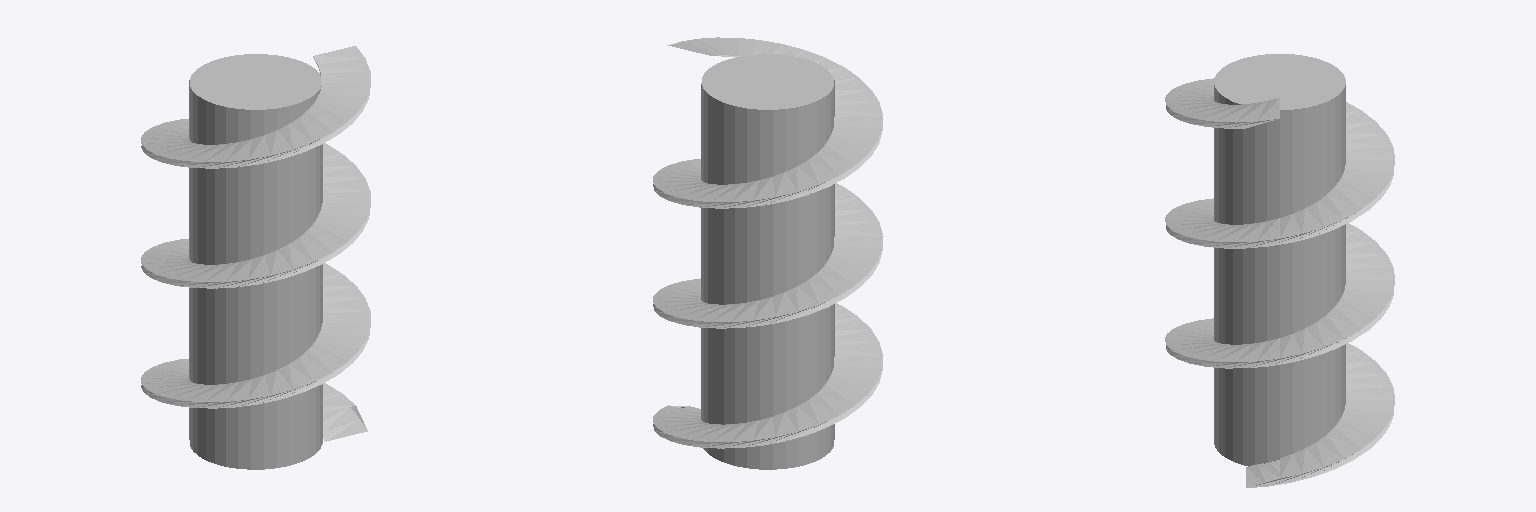
The model's file is 4revscrew_v2.obj.
3 renders of one model, left to right at view 1: azimuth 30°, elevation 25°; view 2: azimuth 150°, elevation 25°; view 3: azimuth 270°, elevation 25°, orthographic.
Parts seen in each view (by area): view 1: Cylinder, Plane; view 2: Cylinder, Plane; view 3: Cylinder, Plane.
Part boxes in pixels (left/top/right/bottom): Cylinder: left=189, top=54, right=322, bottom=469; Plane: left=141, top=46, right=370, bottom=441; Cylinder: left=701, top=54, right=834, bottom=469; Plane: left=653, top=37, right=882, bottom=448; Cylinder: left=1214, top=54, right=1345, bottom=466; Plane: left=1165, top=78, right=1394, bottom=487.
Bounding box in the file's own units: 3.49 × 6.2 × 3.49.